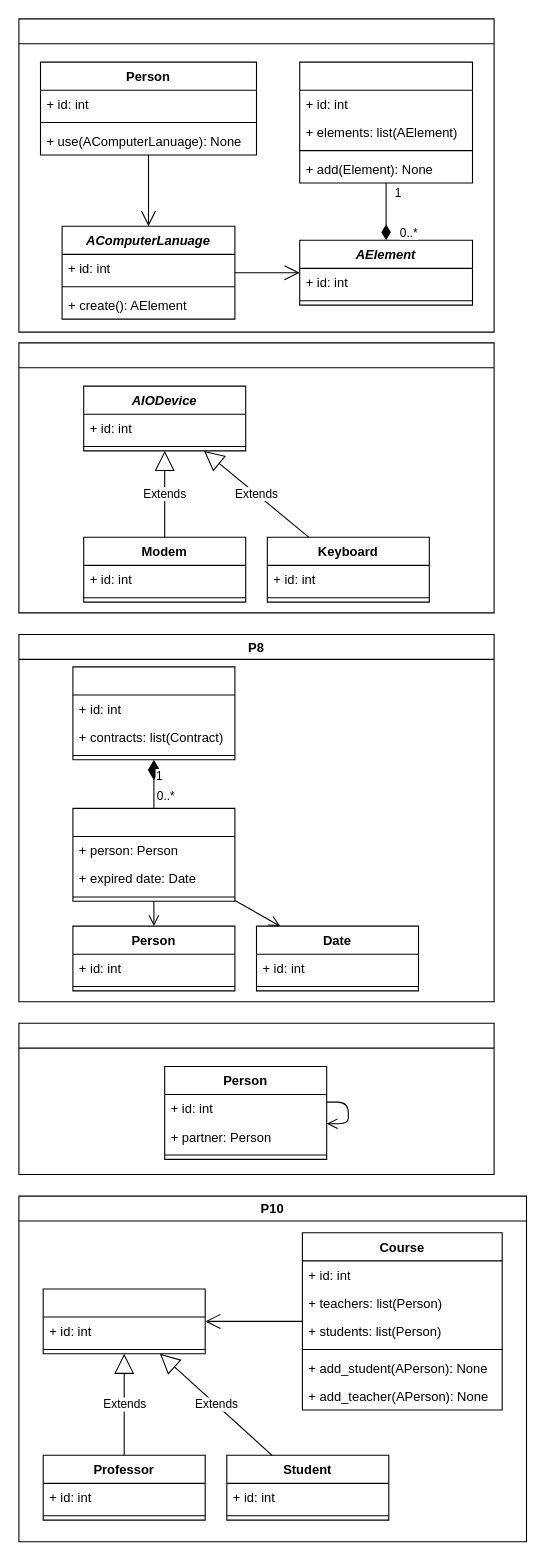
Some shapes in this 545 by 1561 pixel diagram are drawn without their labels. Each missing label, with the box of its shape:
APerson: (42, 1288, 205, 1354)
Contract: (72, 807, 235, 901)
P6: (18, 18, 494, 332)
P7: (18, 342, 494, 613)
P9: (18, 1022, 494, 1174)
Project: (299, 61, 473, 183)
Team: (72, 666, 235, 760)
